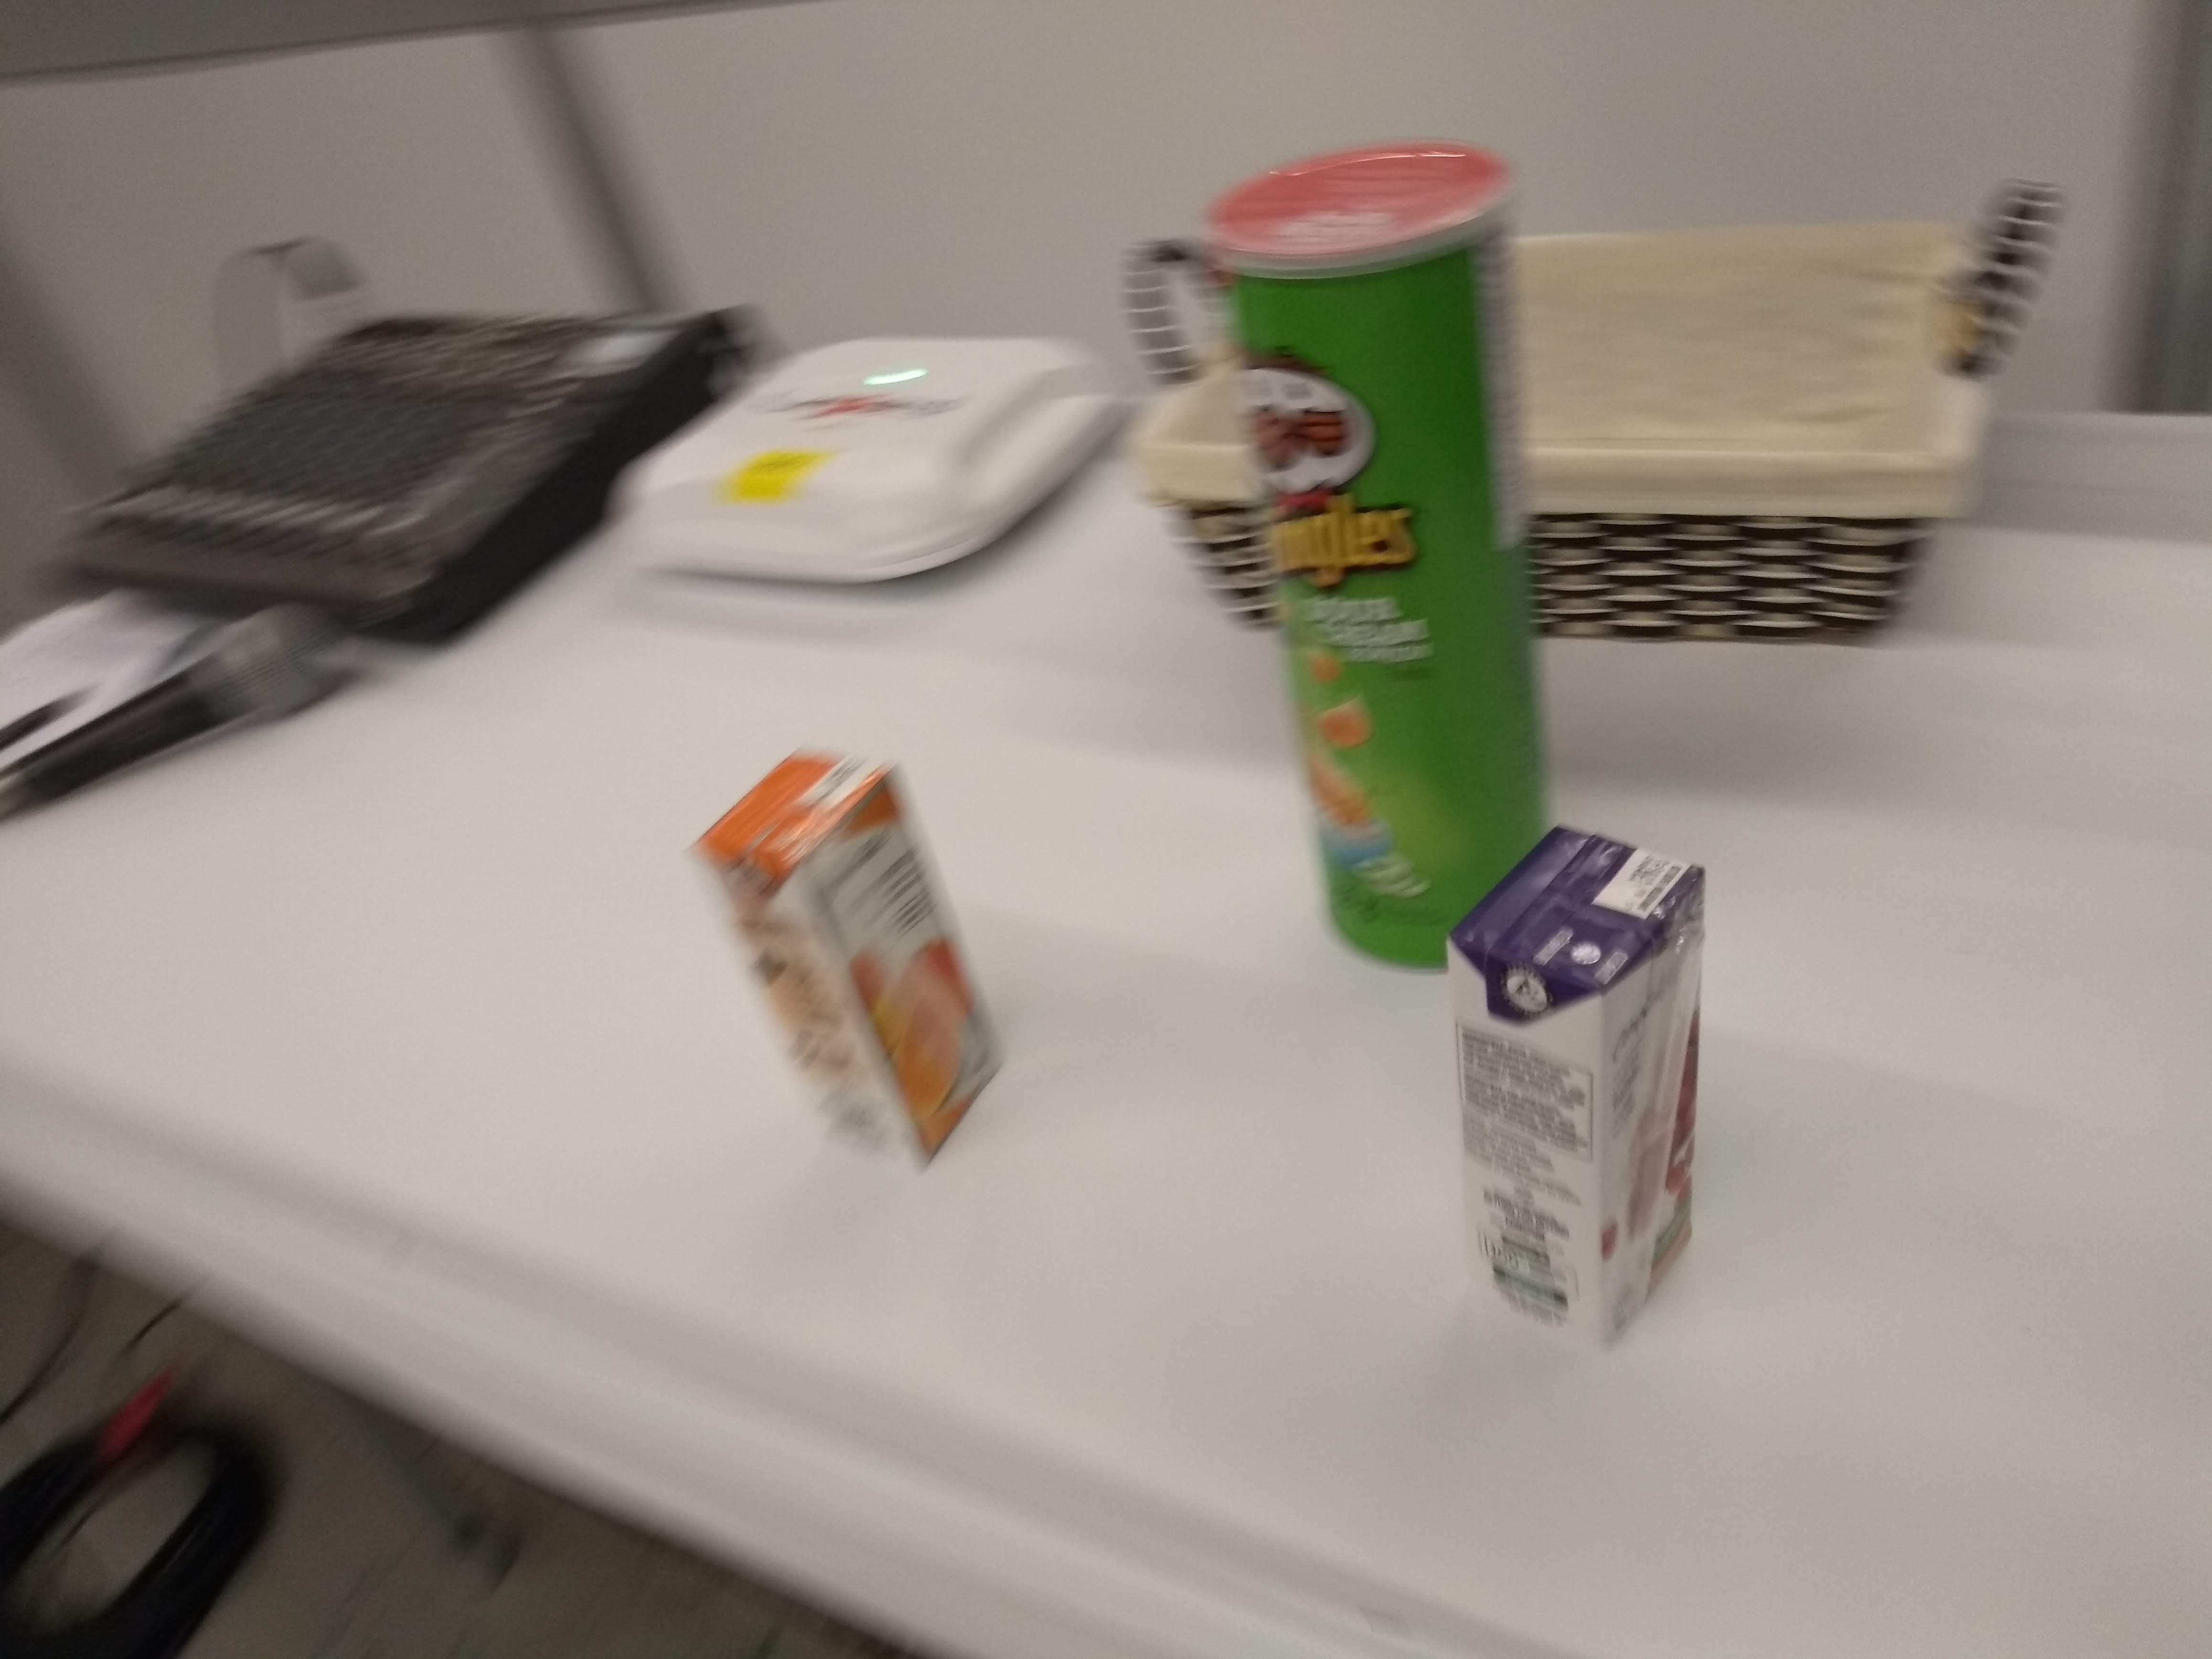grape_juice: (1439, 812, 1728, 1361)
orange_juice: (683, 727, 1022, 1187)
pringles: (1221, 125, 1576, 995)
